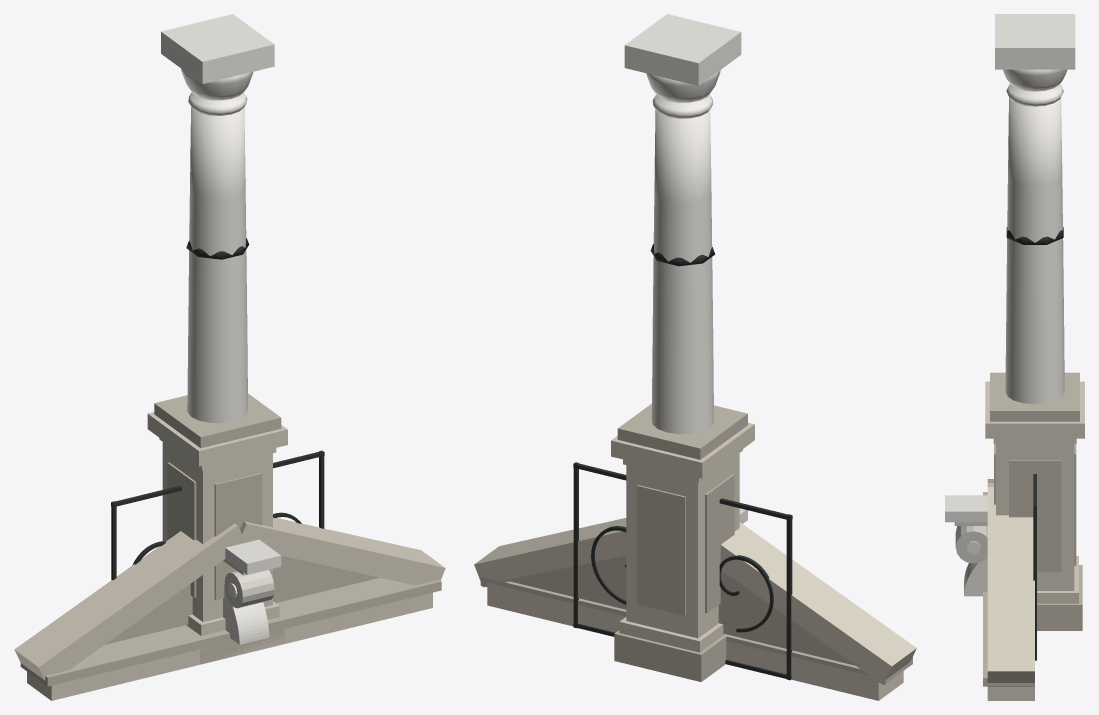
Rendered from kit.glb.
3 renders of one model, left to right at view 1: azimuth 30°, elevation 25°; view 2: azimuth 150°, elevation 25°; view 3: azimuth 270°, elevation 25°, orthographic. The views are drawn at different scales.
Visible parts, largest first — view 1: Shaft.002, Raking cornice, Bed drip, Raking cornice.001, Bed cornice, Abacus.001, Die, Tympanum face, Cap top, Panel.005, Cap, Panel.002 (+8 smaller); view 2: Shaft.002, Raking cornice, Die, Tympanum back, Bed cornice, Panel.003, Abacus.001, Raking cornice.001, Cap top, Plinth, Cap, Panel.002 (+8 smaller); view 3: Shaft.002, Raking cornice.001, Abacus.001, Die, Panel.004, Cap top, Cap, Plinth, Top block, Echinus, Front volute, Astragal (+8 smaller).
Boxes of the visible parts, x1=… form: Shaft.002: x1=187, y1=107, x2=247, y2=423; Raking cornice: x1=14, y1=523, x2=245, y2=680; Bed drip: x1=20, y1=577, x2=441, y2=686; Raking cornice.001: x1=238, y1=517, x2=445, y2=585; Bed cornice: x1=27, y1=592, x2=432, y2=700; Abacus.001: x1=161, y1=14, x2=274, y2=83; Die: x1=162, y1=442, x2=272, y2=621; Tympanum face: x1=105, y1=555, x2=379, y2=644; Cap top: x1=154, y1=393, x2=281, y2=448; Panel.005: x1=214, y1=473, x2=262, y2=599; Cap: x1=147, y1=412, x2=287, y2=466; Panel.002: x1=167, y1=462, x2=196, y2=597; Shaft.002: x1=651, y1=109, x2=713, y2=434; Raking cornice: x1=720, y1=522, x2=916, y2=684; Die: x1=626, y1=453, x2=739, y2=638; Tympanum back: x1=505, y1=555, x2=860, y2=666; Bed cornice: x1=487, y1=583, x2=903, y2=700; Panel.003: x1=637, y1=485, x2=685, y2=615; Abacus.001: x1=624, y1=14, x2=741, y2=85; Raking cornice.001: x1=474, y1=518, x2=626, y2=587; Cap top: x1=617, y1=403, x2=747, y2=459; Plinth: x1=614, y1=630, x2=726, y2=681; Cap: x1=611, y1=422, x2=754, y2=478; Panel.002: x1=705, y1=474, x2=734, y2=613; Shaft.002: x1=1005, y1=97, x2=1064, y2=404; Raking cornice.001: x1=987, y1=487, x2=1034, y2=686; Abacus.001: x1=995, y1=14, x2=1075, y2=69; Die: x1=996, y1=443, x2=1074, y2=590; Panel.004: x1=1009, y1=460, x2=1061, y2=572; Cap top: x1=990, y1=372, x2=1079, y2=421; Cap: x1=985, y1=381, x2=1084, y2=438; Plinth: x1=1037, y1=565, x2=1082, y2=630; Top block: x1=945, y1=495, x2=987, y2=522; Echinus: x1=1003, y1=69, x2=1067, y2=91; Front volute: x1=955, y1=526, x2=987, y2=563; Astragal: x1=1006, y1=84, x2=1063, y2=106.
Size of the model in its own units: 1.92 by 2.7 by 0.59.
